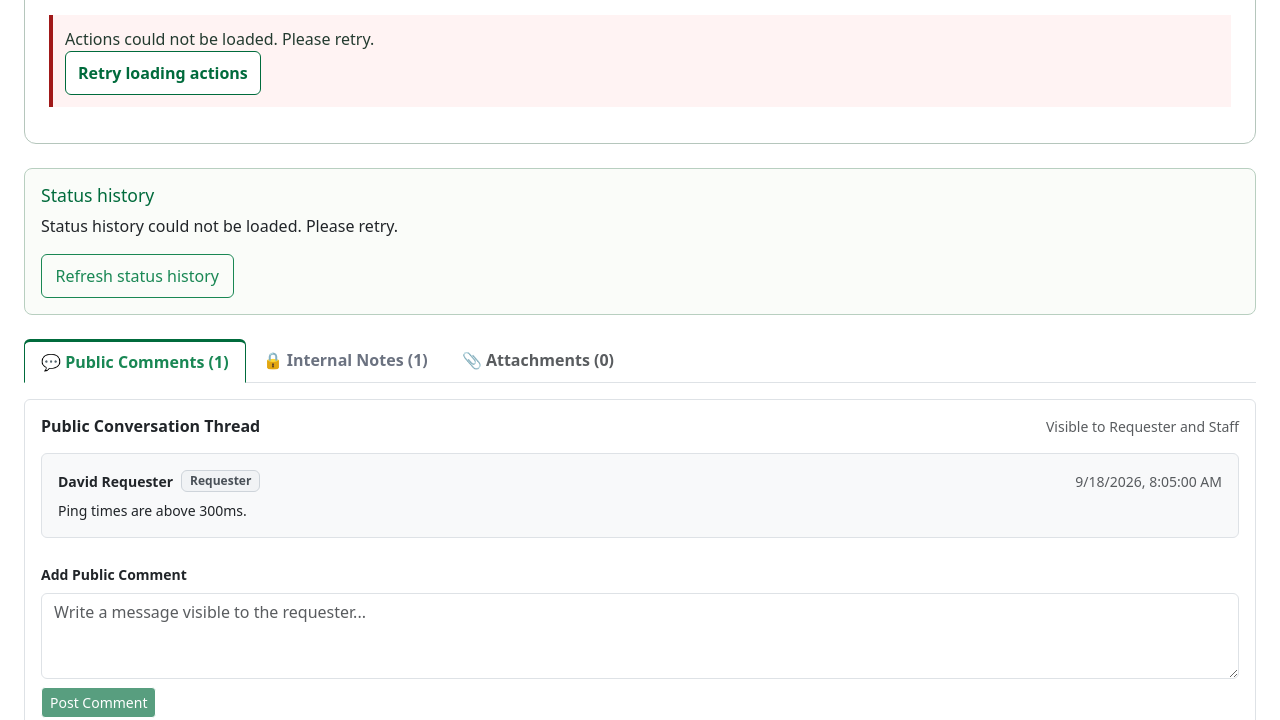
Test: StaffTicketDetail Component (Lab 3) › Attachments Tab › renders empty state message when there are no attachments
(page scrolled)
Click the tab with test id "tab-attachments" at (538, 360), box [445,339,631,381]
(page scrolled)
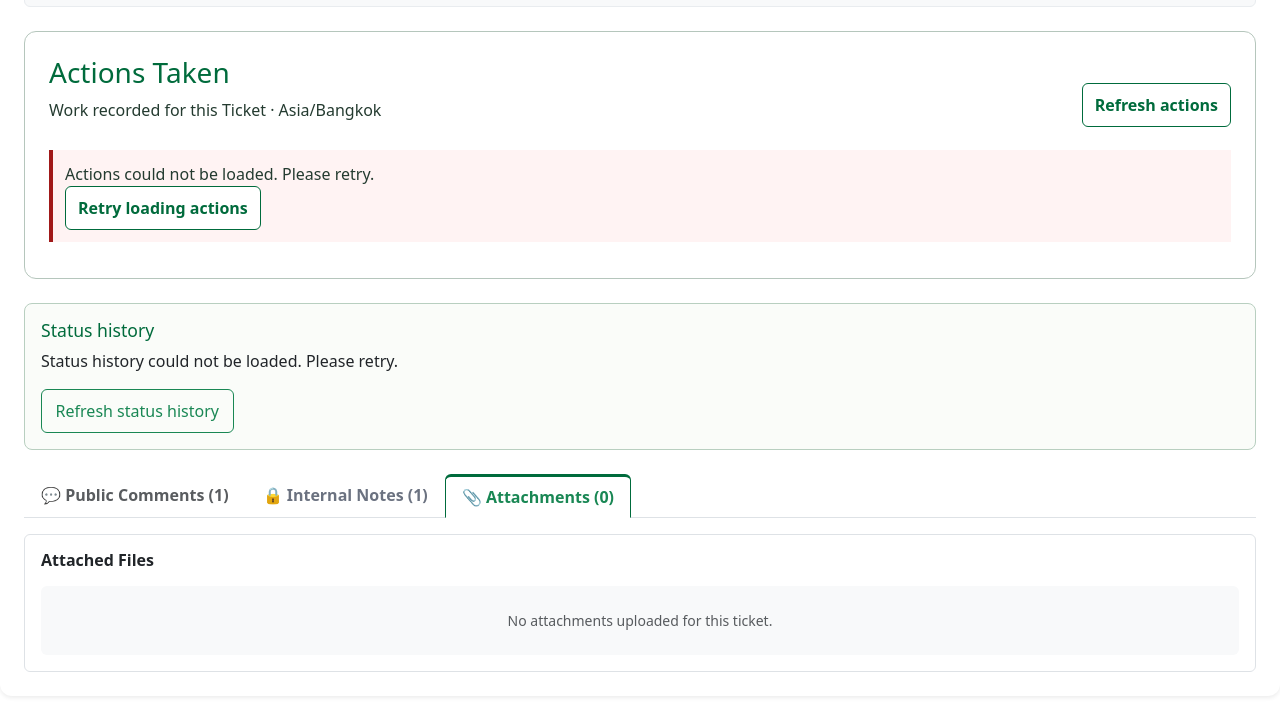
Check: the text "No attachments uploaded for this ticket." is shown, box [41,586,1239,655]
